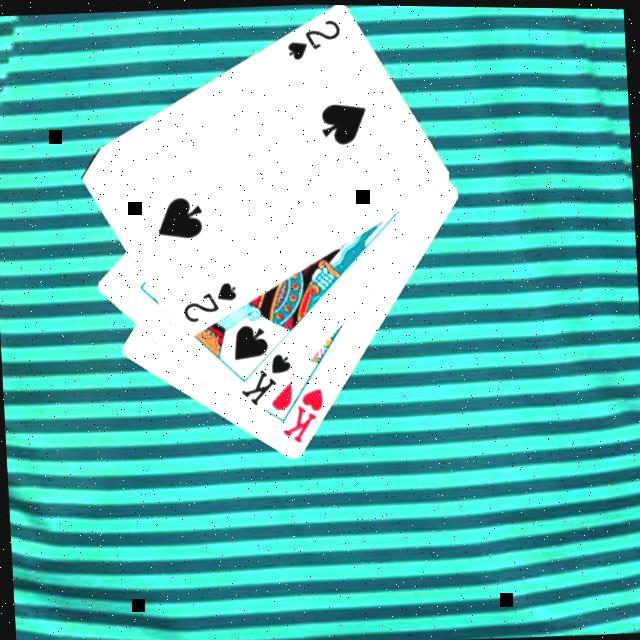2S: (178, 276, 240, 327), (282, 14, 344, 64)
KH: (276, 383, 328, 446)
KS: (235, 348, 296, 410)
